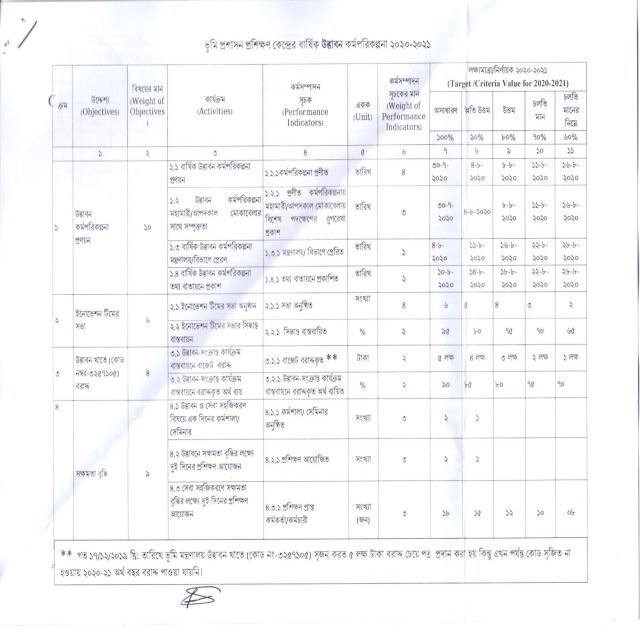table: (51, 61, 588, 586)
text: (59, 546, 572, 580), (264, 187, 346, 238), (169, 193, 262, 233), (446, 64, 570, 90), (170, 482, 249, 519), (169, 400, 247, 437), (381, 74, 426, 133), (169, 447, 254, 474), (282, 81, 329, 128), (169, 320, 259, 344), (169, 241, 253, 265), (265, 373, 345, 398), (169, 268, 252, 292), (169, 161, 251, 185), (74, 354, 125, 391), (170, 373, 243, 398), (170, 346, 241, 371), (265, 406, 329, 432), (129, 83, 165, 128), (74, 209, 109, 246), (265, 501, 315, 525), (179, 585, 221, 610), (170, 300, 257, 312), (74, 308, 119, 331), (265, 246, 344, 259), (79, 94, 120, 119), (265, 353, 338, 367), (196, 93, 233, 119), (265, 273, 339, 284), (265, 453, 330, 465), (265, 167, 329, 179), (265, 326, 328, 337), (562, 92, 580, 129), (265, 299, 313, 312), (436, 200, 455, 224), (353, 100, 372, 123), (431, 160, 450, 183), (561, 200, 580, 223), (354, 502, 372, 526), (500, 240, 518, 264), (75, 467, 108, 480), (532, 97, 549, 122), (561, 161, 580, 183), (468, 267, 486, 290), (500, 268, 518, 291), (531, 267, 549, 290), (562, 240, 580, 263), (531, 160, 549, 183), (436, 268, 454, 290), (562, 267, 580, 289), (501, 160, 518, 183), (468, 240, 485, 263), (532, 240, 549, 263), (531, 200, 548, 223), (431, 241, 448, 263), (469, 160, 485, 183), (501, 201, 517, 224), (432, 104, 458, 116), (463, 104, 491, 115), (463, 207, 491, 218), (435, 132, 455, 143), (353, 166, 372, 177), (354, 240, 371, 252), (354, 293, 372, 304), (353, 201, 372, 211), (355, 413, 372, 424), (354, 268, 371, 279), (500, 132, 517, 143), (437, 353, 455, 363), (500, 353, 518, 363), (531, 353, 549, 363), (563, 352, 579, 363), (469, 353, 486, 363), (469, 132, 484, 143), (501, 104, 516, 115), (563, 132, 578, 143), (355, 454, 371, 464), (356, 352, 370, 363), (532, 133, 547, 142), (57, 100, 69, 111), (441, 508, 451, 518), (566, 325, 575, 336), (472, 327, 482, 336), (505, 509, 515, 518), (359, 326, 367, 337), (441, 327, 450, 336), (441, 380, 450, 389), (536, 327, 545, 336), (566, 146, 575, 155), (494, 380, 504, 388), (537, 508, 545, 518), (566, 508, 576, 516), (359, 380, 366, 391), (505, 327, 513, 336), (463, 381, 472, 389), (474, 509, 482, 518), (557, 380, 565, 389), (536, 147, 545, 155), (401, 455, 408, 465), (527, 380, 535, 388), (400, 208, 407, 217), (400, 168, 407, 177), (145, 148, 151, 158), (401, 327, 407, 337), (401, 300, 407, 310), (401, 248, 407, 258), (443, 300, 449, 310), (474, 413, 480, 423), (144, 224, 152, 231), (144, 316, 150, 325), (401, 354, 407, 363), (401, 275, 407, 284), (360, 148, 366, 157), (442, 146, 448, 155), (443, 455, 449, 464), (463, 300, 468, 310), (475, 454, 480, 464), (568, 300, 573, 310), (302, 149, 308, 157), (401, 510, 407, 518), (401, 415, 407, 423), (401, 381, 407, 389), (526, 301, 532, 309), (97, 149, 102, 158), (54, 223, 59, 232), (55, 316, 60, 325), (54, 403, 59, 412), (145, 469, 150, 478), (401, 147, 406, 156), (506, 146, 511, 155), (443, 414, 448, 423), (55, 370, 60, 378), (475, 147, 480, 155), (146, 369, 150, 378), (495, 300, 499, 309), (213, 150, 217, 157), (51, 564, 54, 570)
title: (203, 35, 432, 55)
